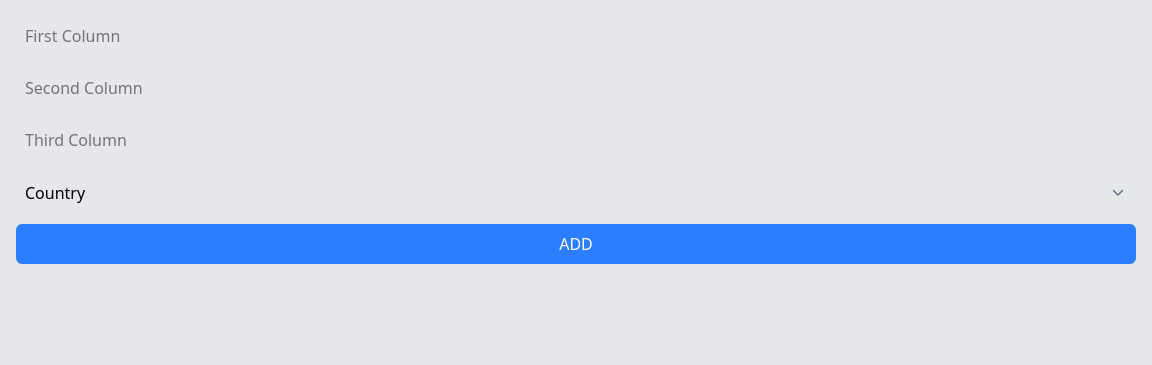
Scenario: CreateTableFormComponent › shows validation errors when submitting empty form
This screenshot has width=1152, height=365.
Click the button "Add" at {"x": 576, "y": 244}, box [16,224,1136,264]
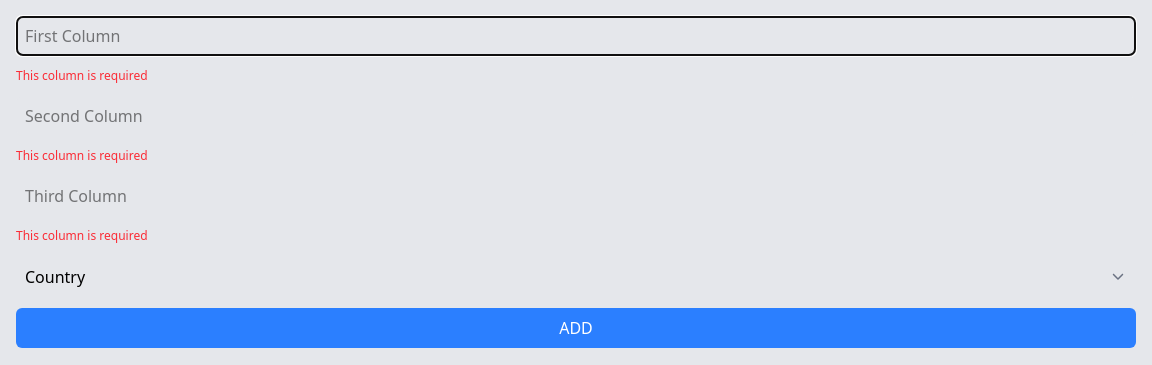
Expected: the text "This column is required" is shown 3 times, [16,67,148,84]; [16,147,148,164]; [16,227,148,244]
